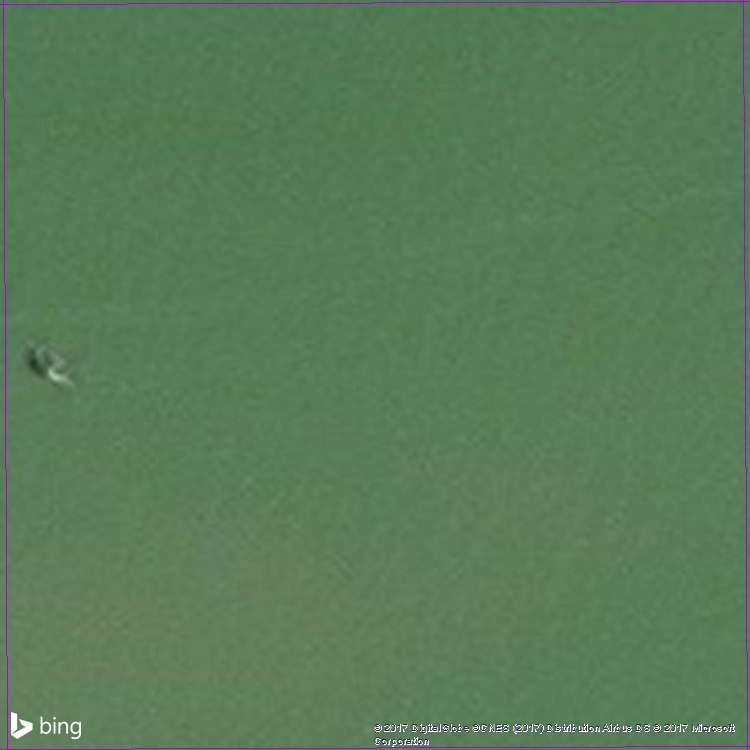boat: (18, 325, 79, 395)
